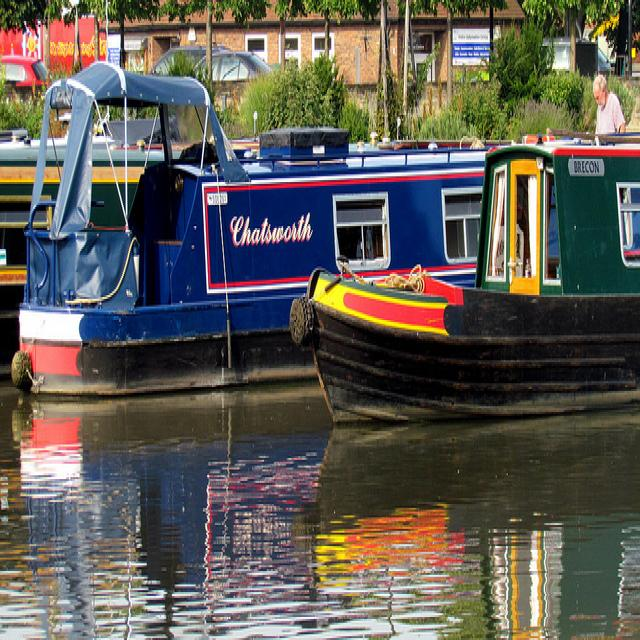Vehicle: (534, 38, 610, 80), (147, 45, 230, 76), (192, 50, 272, 81), (0, 51, 53, 92)
